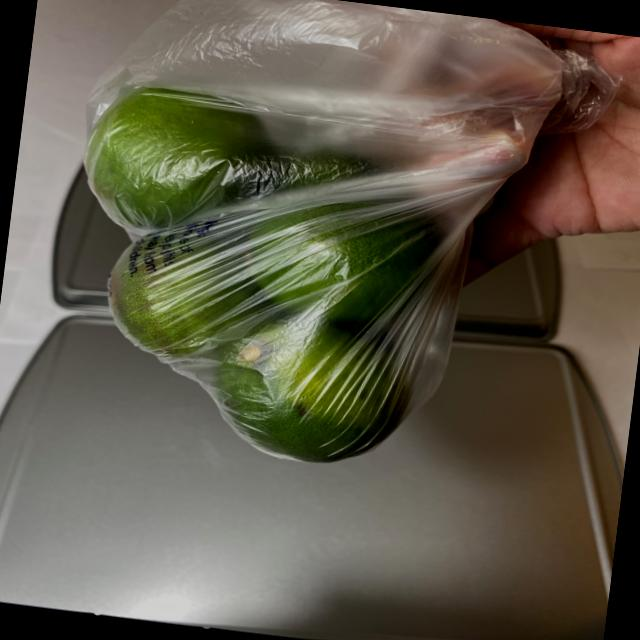lemon: (52, 64, 466, 474)
